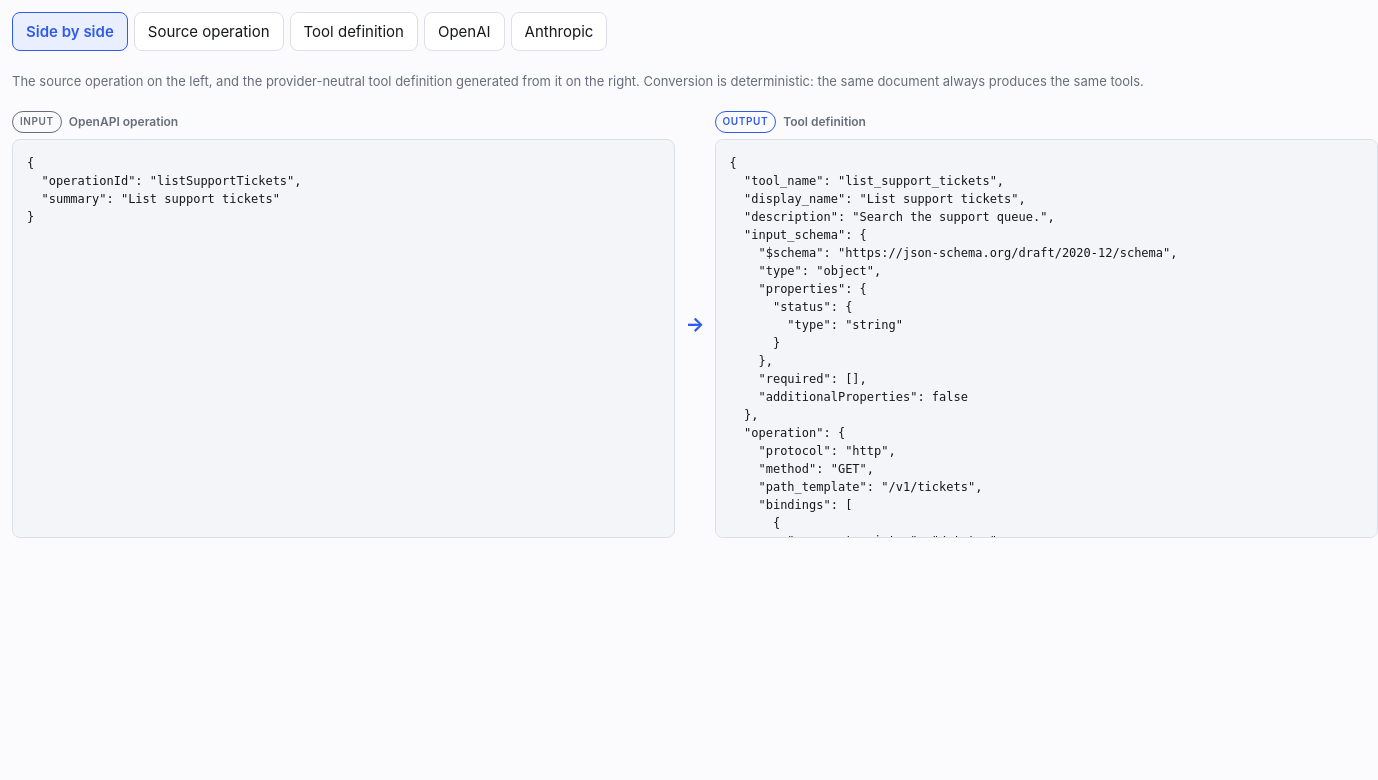
Test: TransformationView › explains the provider projection rather than showing nothing
The image size is (1378, 780).
Click the tab "OpenAI": coordinates (464, 32) x1=424 y1=12 x2=505 y2=51
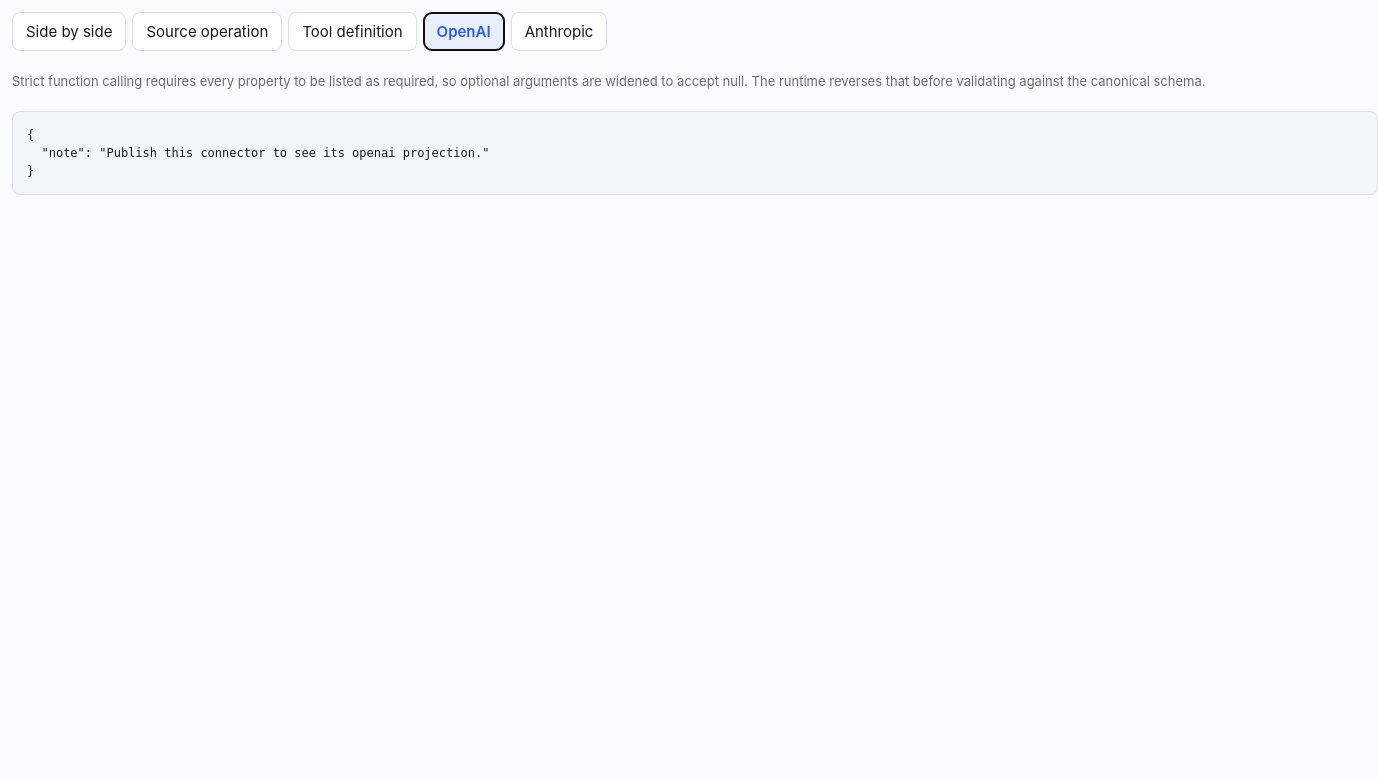
Check: the text "widened to accept" is shown, box x1=12 y1=73 x2=1206 y2=89
Check: the text with test id "pane-openai" shows "Publish this connector", box x1=27 y1=128 x2=489 y2=178
